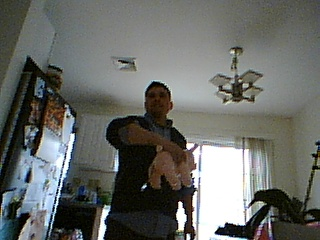piggy: (147, 142, 201, 192)
